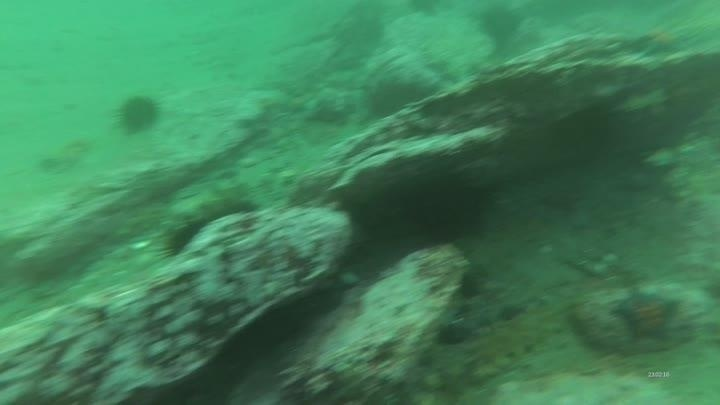echinus: (159, 184, 260, 260), (398, 166, 493, 246), (363, 76, 427, 126), (114, 91, 163, 138), (475, 3, 524, 47)
holothurian: (464, 300, 571, 376)
starfish: (610, 286, 685, 348), (632, 21, 689, 59)
